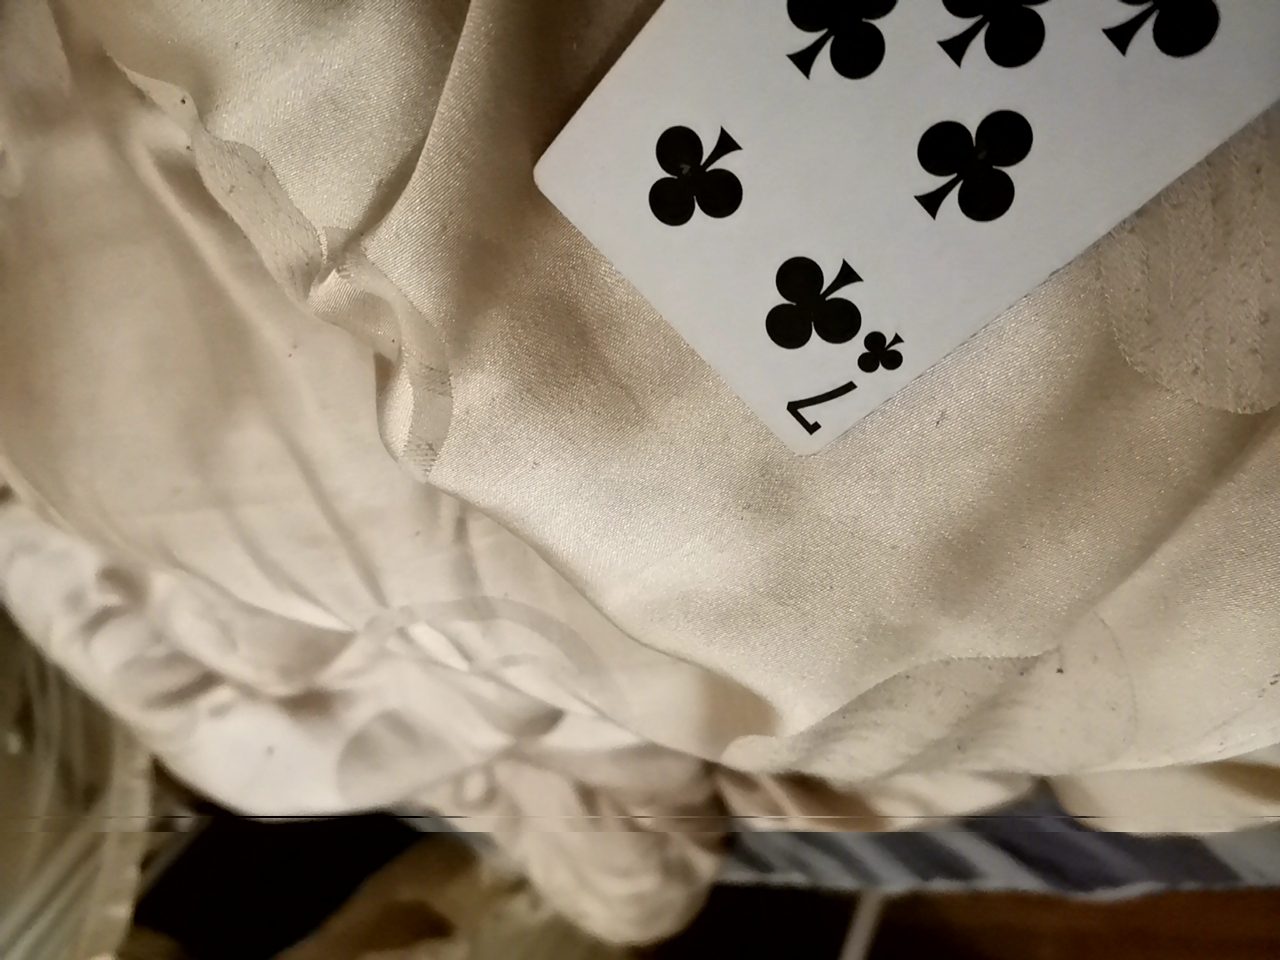mh 7: (514, 0, 1280, 442)
